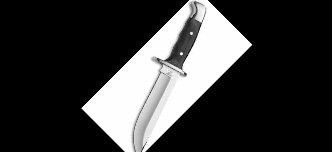k1: (131, 56, 190, 152)
